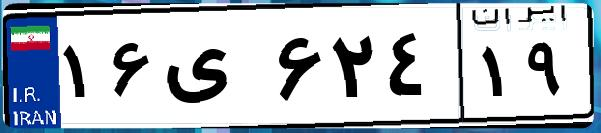1: (57, 26, 110, 100), (475, 38, 525, 113)
2: (330, 28, 385, 110)
4: (385, 28, 445, 110)
6: (270, 28, 330, 110), (110, 28, 158, 98)
9: (525, 38, 570, 115)
ی: (158, 20, 270, 120)
